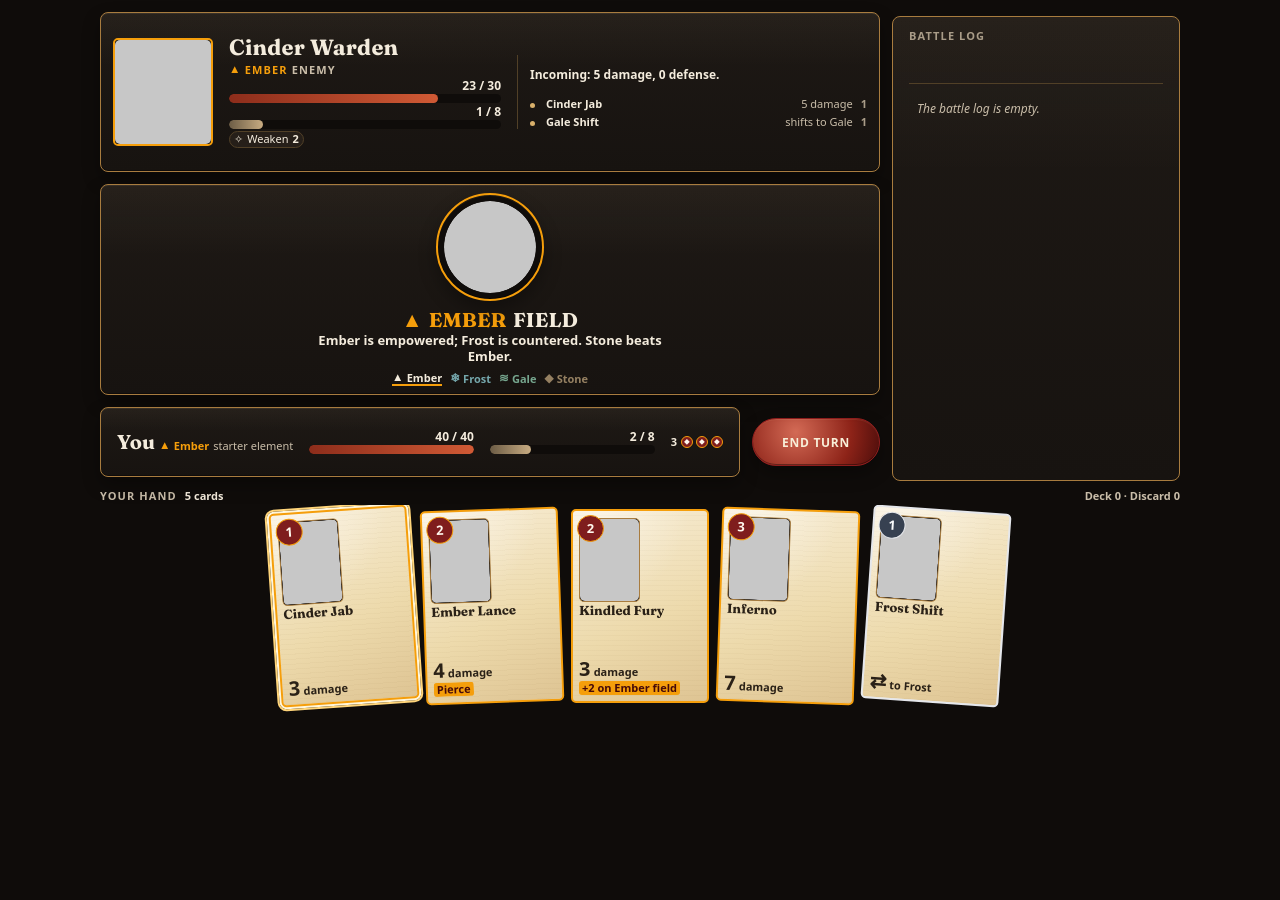
Test: BattleBoard card detail › opens on click and on Enter, then closes on Escape and returns focus
Step 1. Click the button with aria-label "1 energy, Cinder Jab, Ember attack, 3 damage" → click(344, 606), box [268,504,420,708]
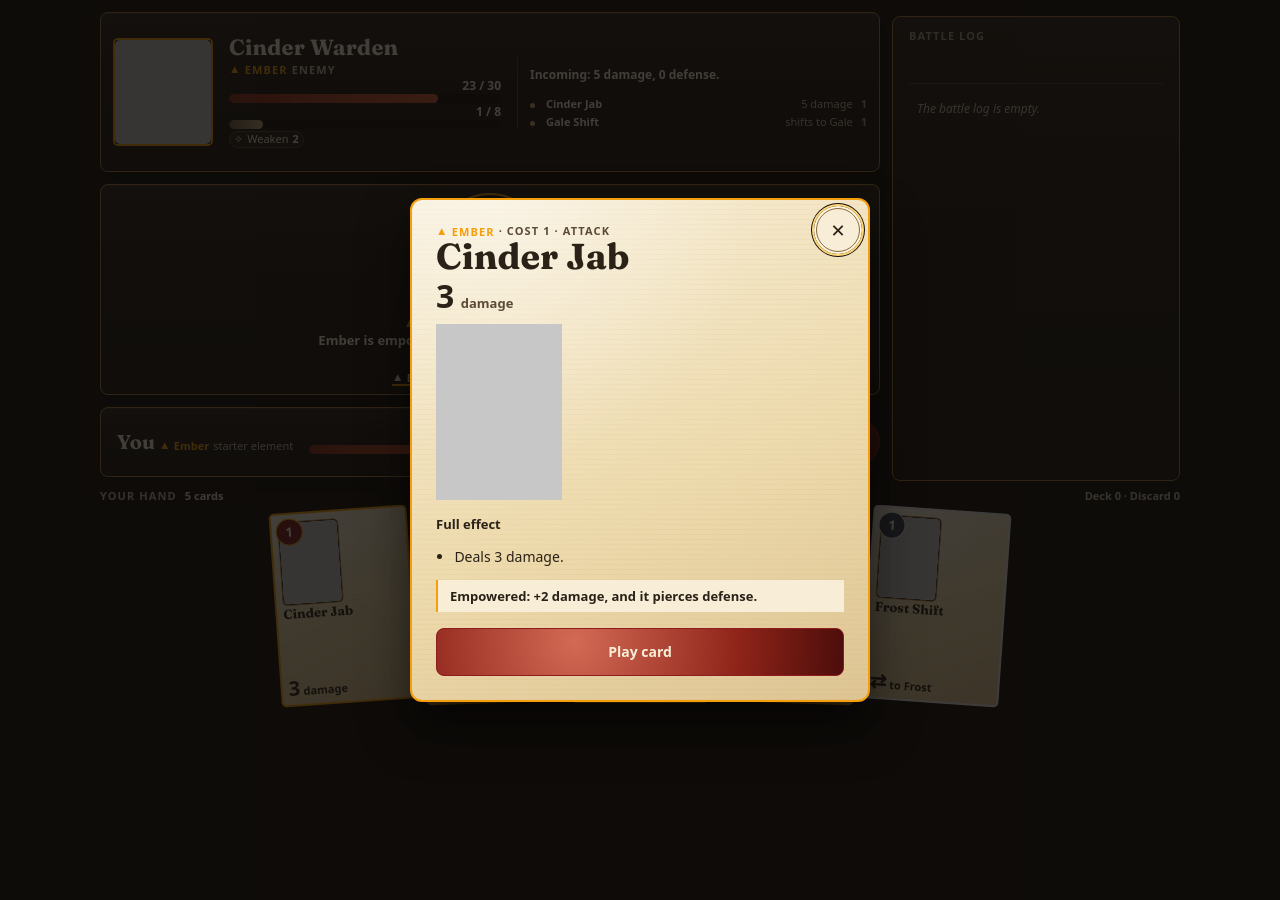
expect the dialog "Cinder Jab" shows "Deals 3 damage.": met, box [454,546,564,566]
expect the dialog "Cinder Jab" shows "Empowered: +2 damage, and it pierces defense.": met, box [450,587,757,605]
Step 2. Press Escape in the button named "Close card detail", box [816,208,860,252]
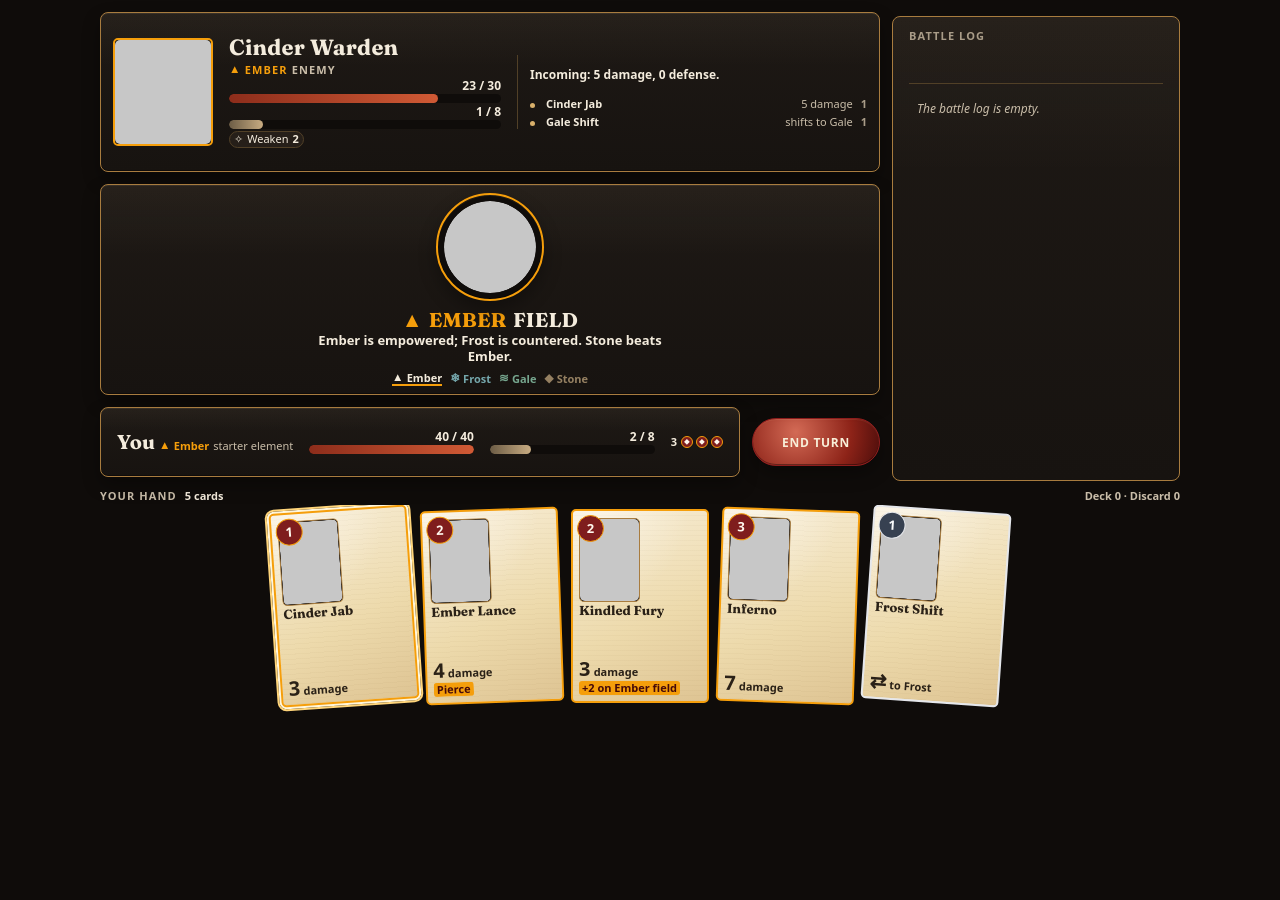
expect the dialog is gone: met
Step 3. Press Enter in the button with aria-label "1 energy, Cinder Jab, Ember attack, 3 damage", box [268,504,420,708]
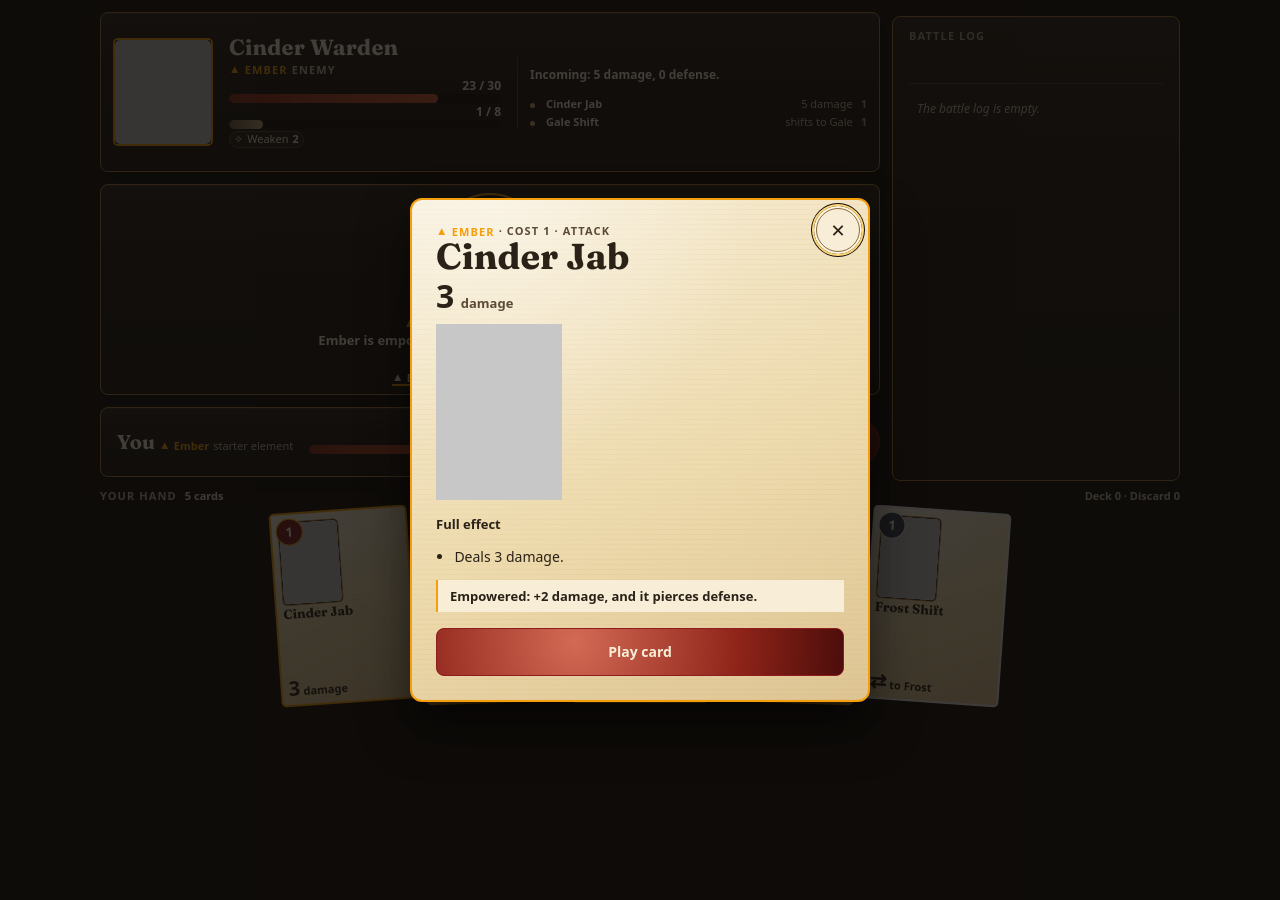
expect the dialog "Cinder Jab" is shown: met, box [410,198,870,702]
